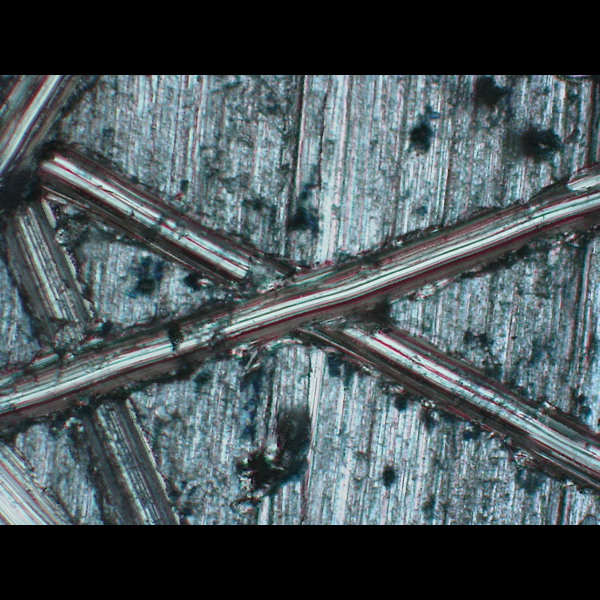d: (0, 152, 598, 514)
